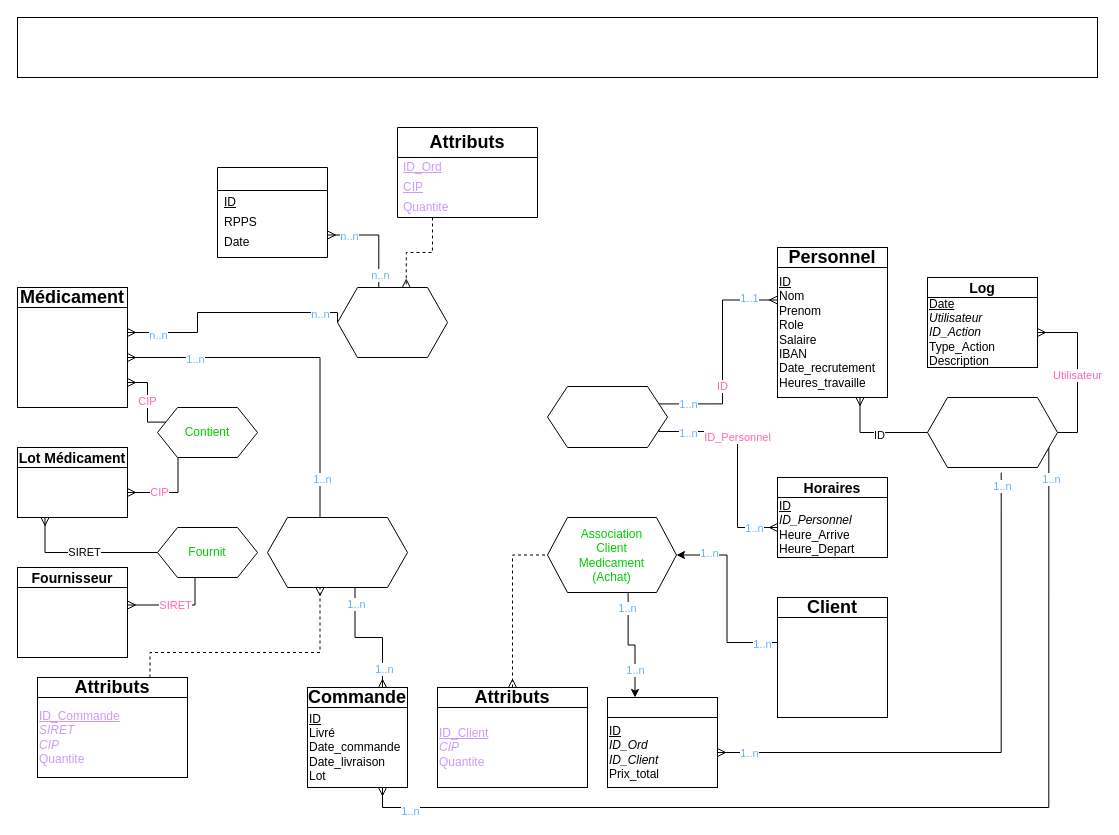
Image size: 1119x835. Some labels were removed from this diagram. The box of each missing label's shape, as (x1, y1, x2, y2) in pixels:
A fait une action: (926, 396, 1058, 468)
Association Medicament Commande: (266, 516, 408, 588)
Association Medicament Ordonnance: (336, 286, 448, 358)
CIP Nom_Commercial SIRET_Fournisseur Stock Prix Ordonnance: (16, 306, 128, 408)
CIP SIRET Expiration: (16, 466, 128, 518)
ID Securite Sociale Mutuelle Nom Prenom Date_Naissance: (776, 616, 888, 718)
Ordonnance: (216, 166, 328, 258)
Schéma Entité/Association Pharmacie: (16, 16, 1098, 78)
SIRET Nom Adresse Contact: (16, 586, 128, 658)
Temps de Travail: (546, 386, 668, 448)
Transaction: (606, 696, 718, 718)
